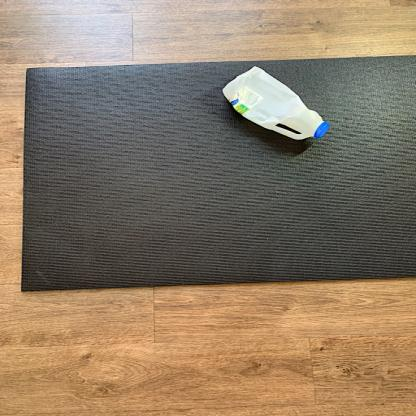trash: (221, 66, 333, 146)
